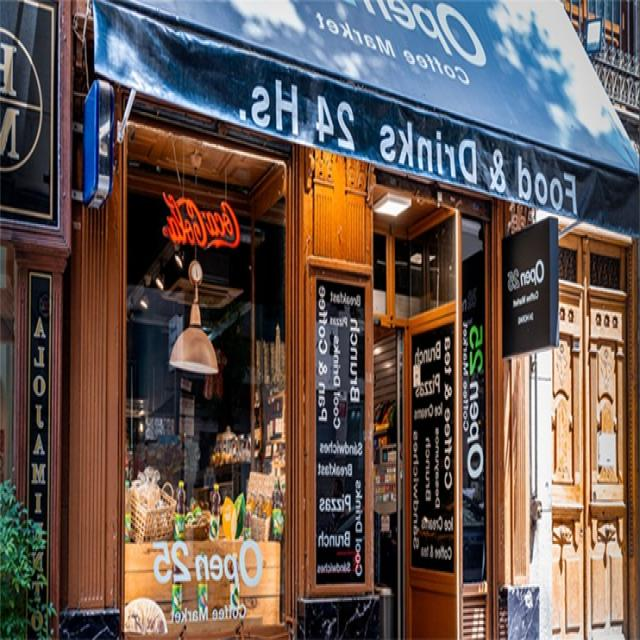coca cola: (154, 190, 252, 262)
